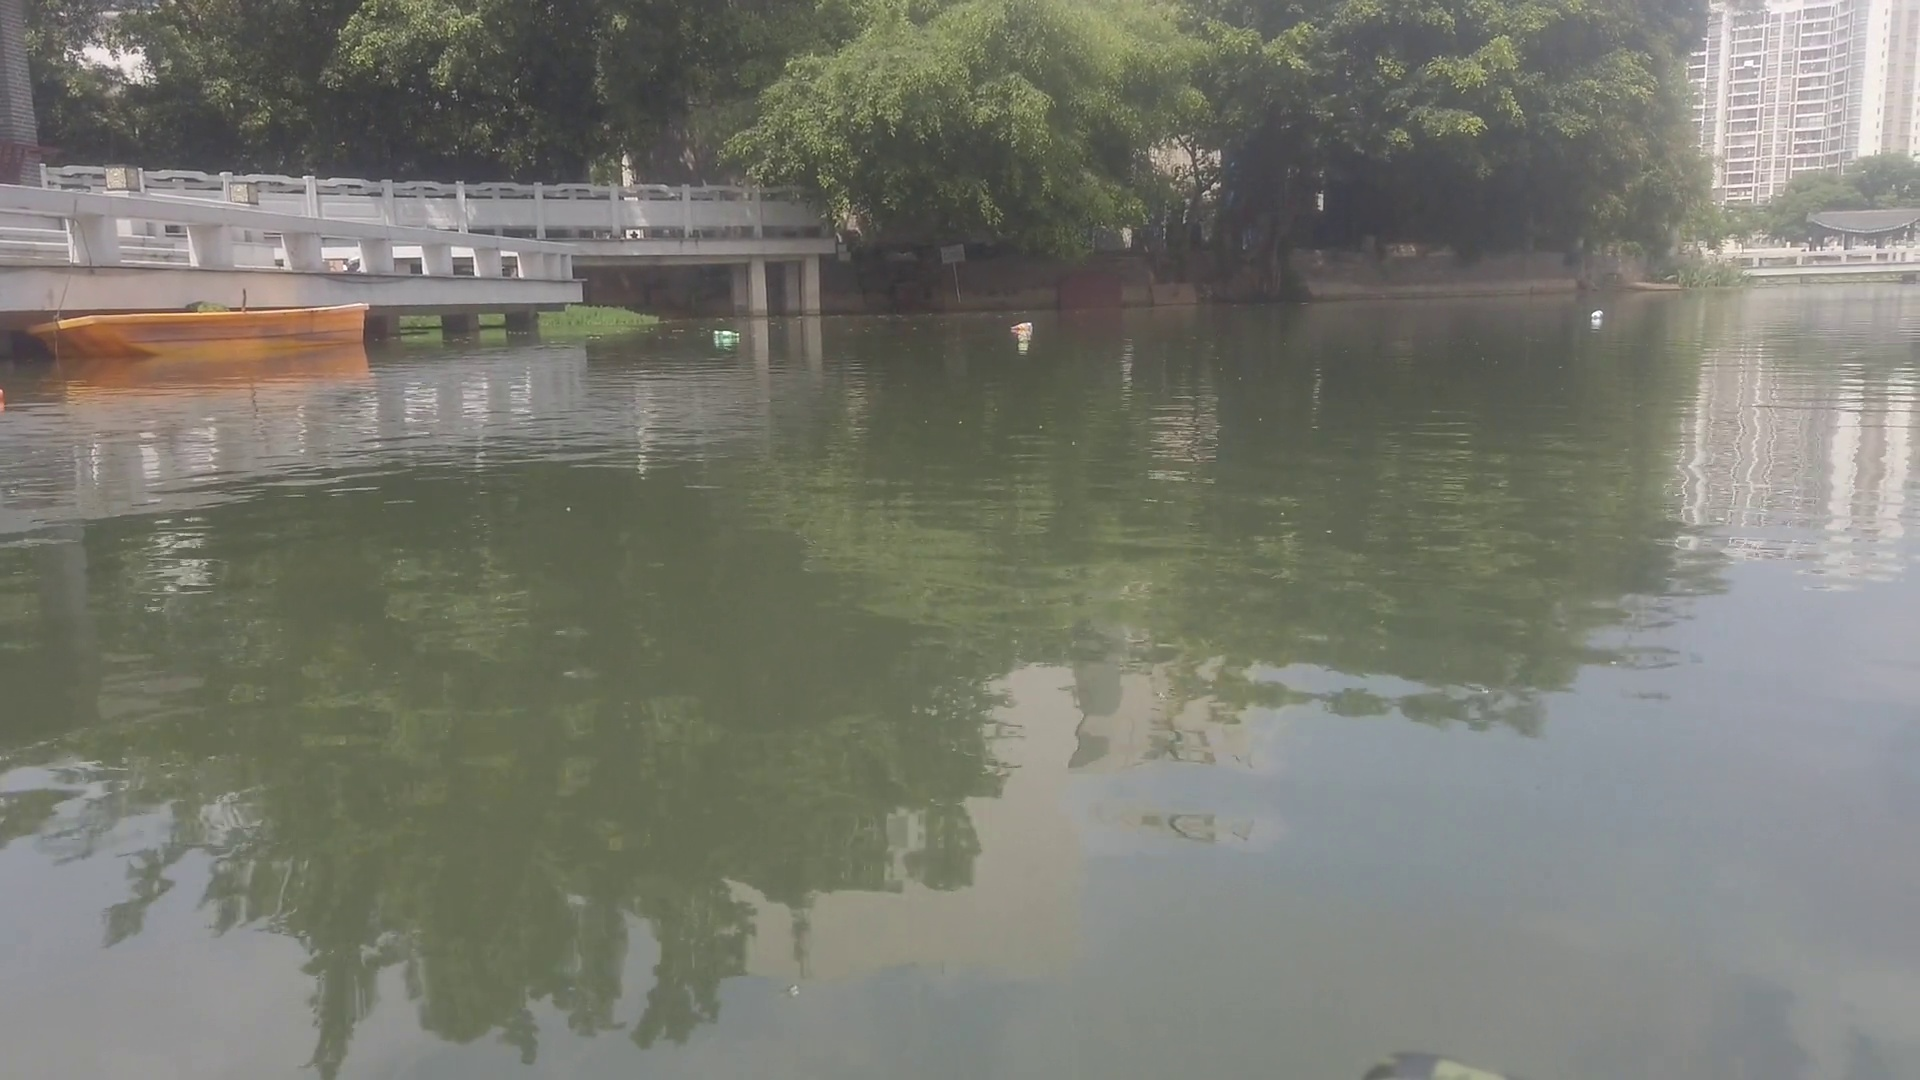bottle: (1009, 316, 1036, 332), (708, 324, 740, 338), (1590, 307, 1606, 324), (1015, 332, 1035, 344)
